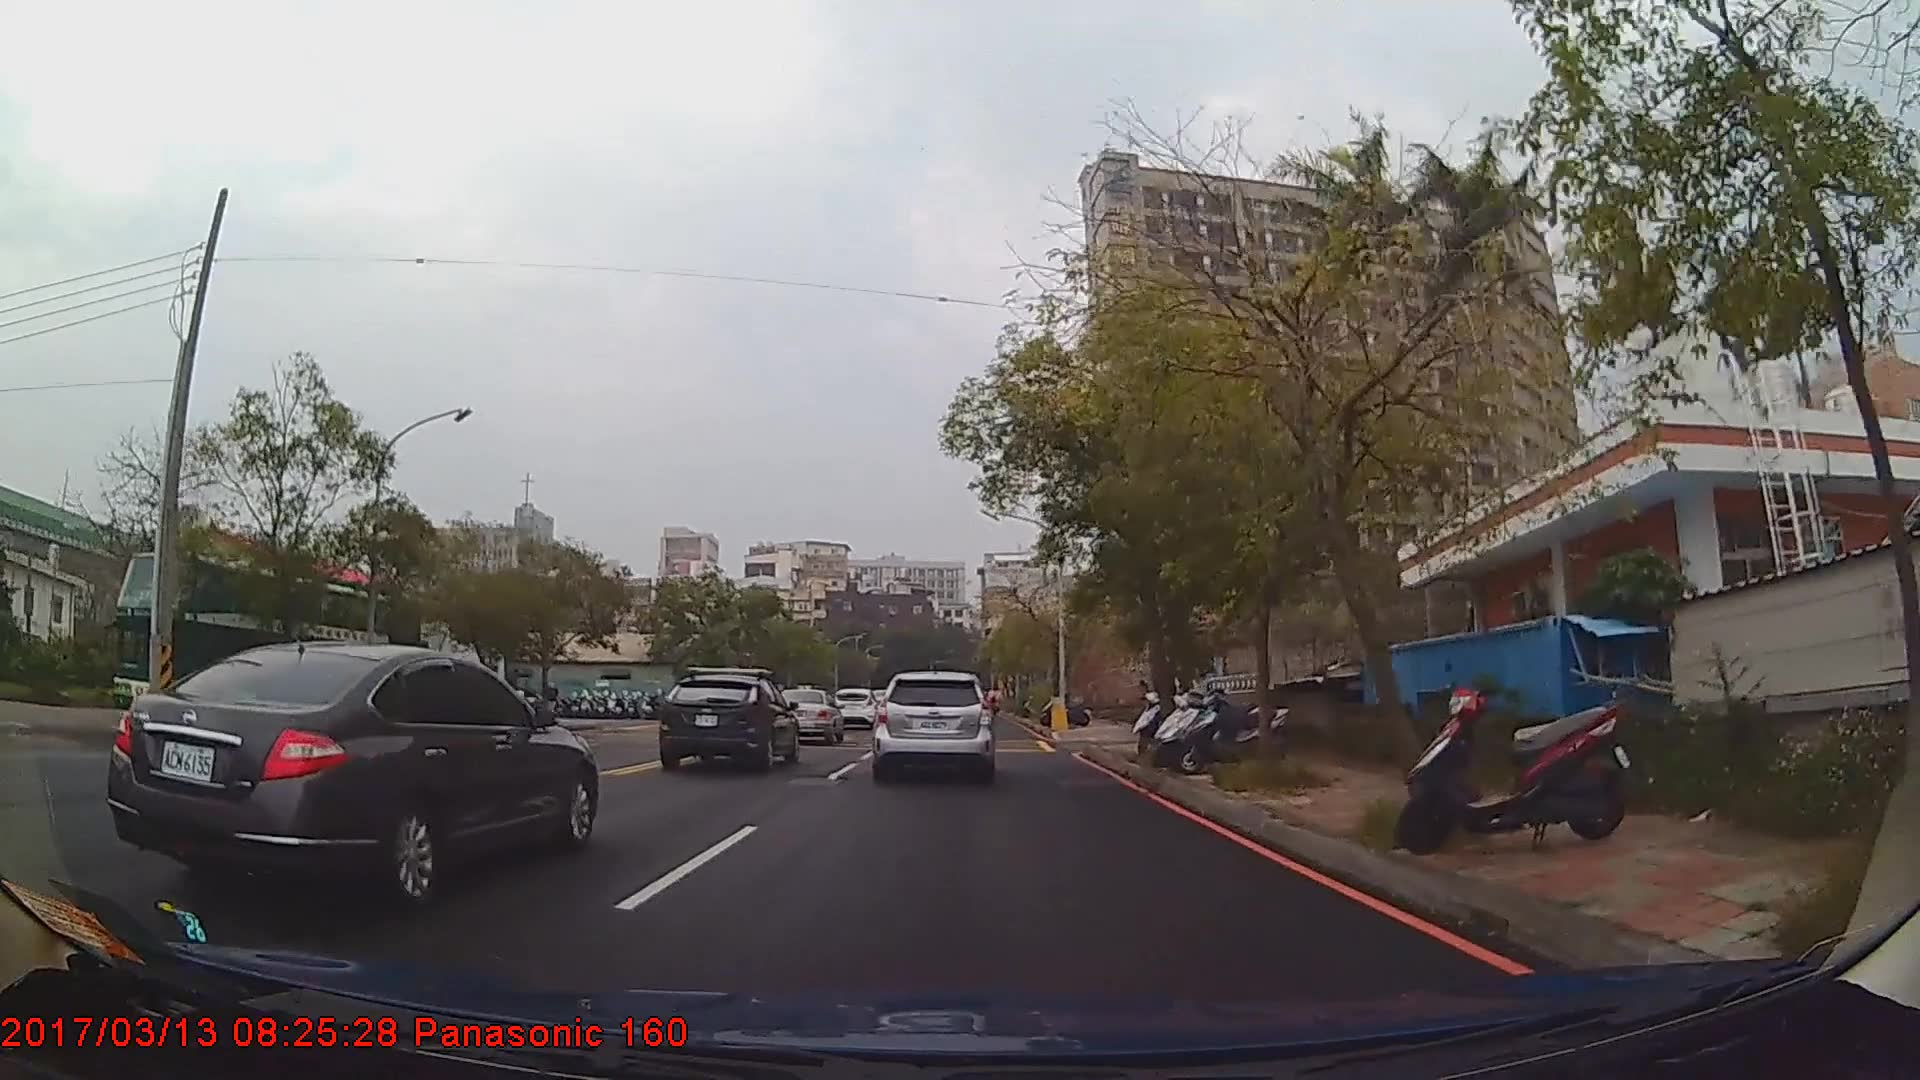vehicle: (105, 640, 597, 903), (102, 545, 423, 745), (655, 673, 800, 775), (873, 669, 993, 781), (771, 687, 841, 746), (829, 686, 877, 729)
